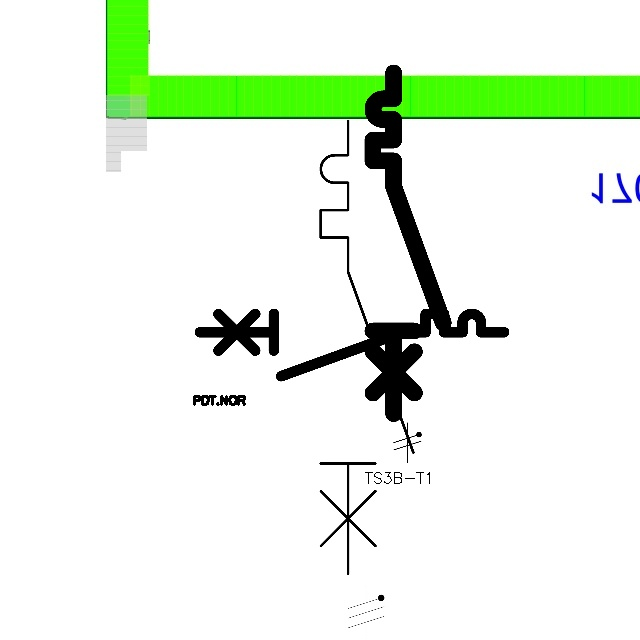interruptor_termomagnetico: (309, 109, 425, 585), (364, 64, 451, 422), (192, 306, 512, 384)
